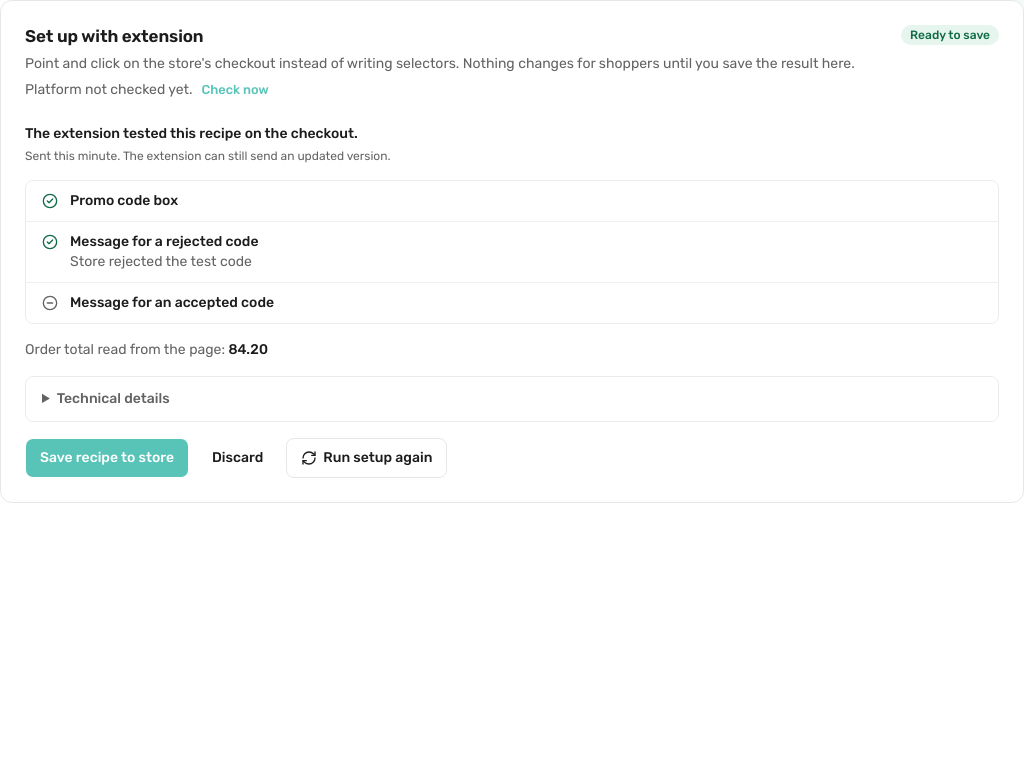
warns before a new code discards a waiting draft
Click the button "Run setup again". click: (367, 458)
box: [286,438,447,478]
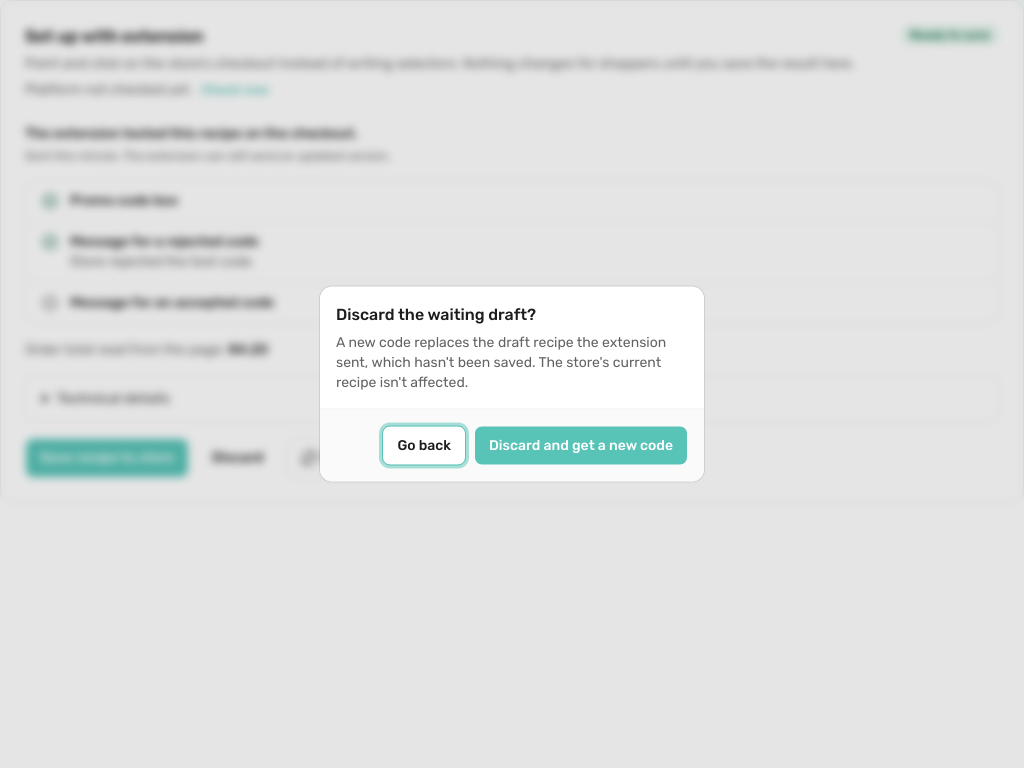
Now the heading "Discard the waiting draft?" is shown, box [336,302,536,326]
Click the button "Go back". click: (424, 446)
box: [382,426,466,466]
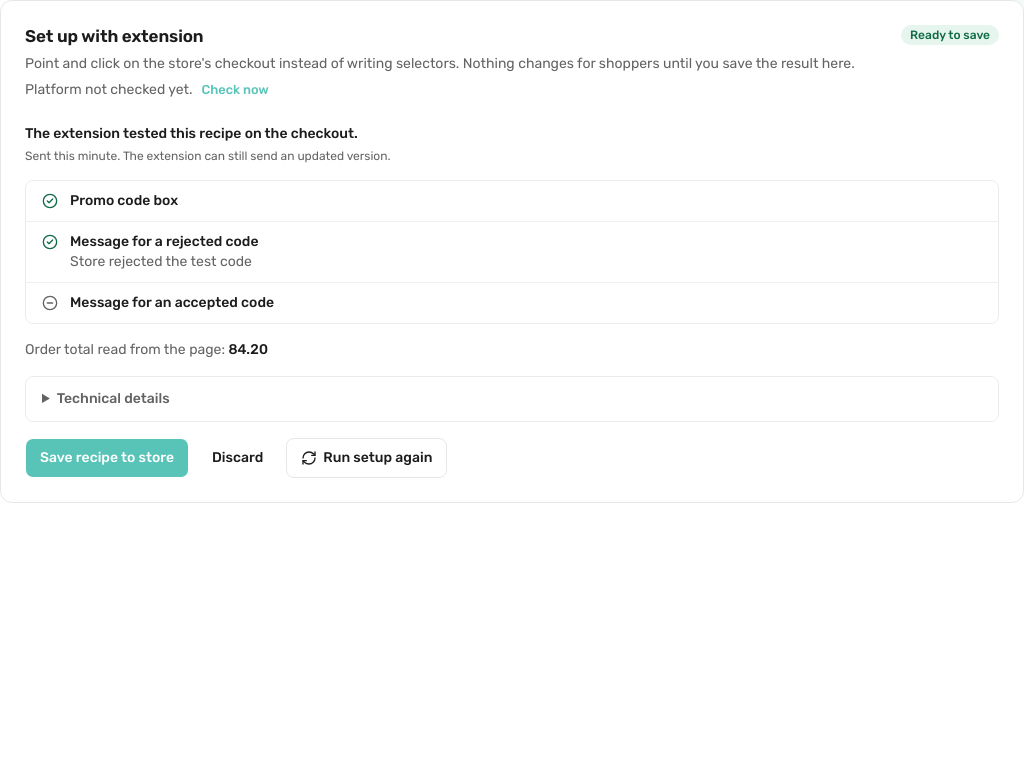
Click the button "Run setup again". click: (367, 458)
box: [286,438,447,478]
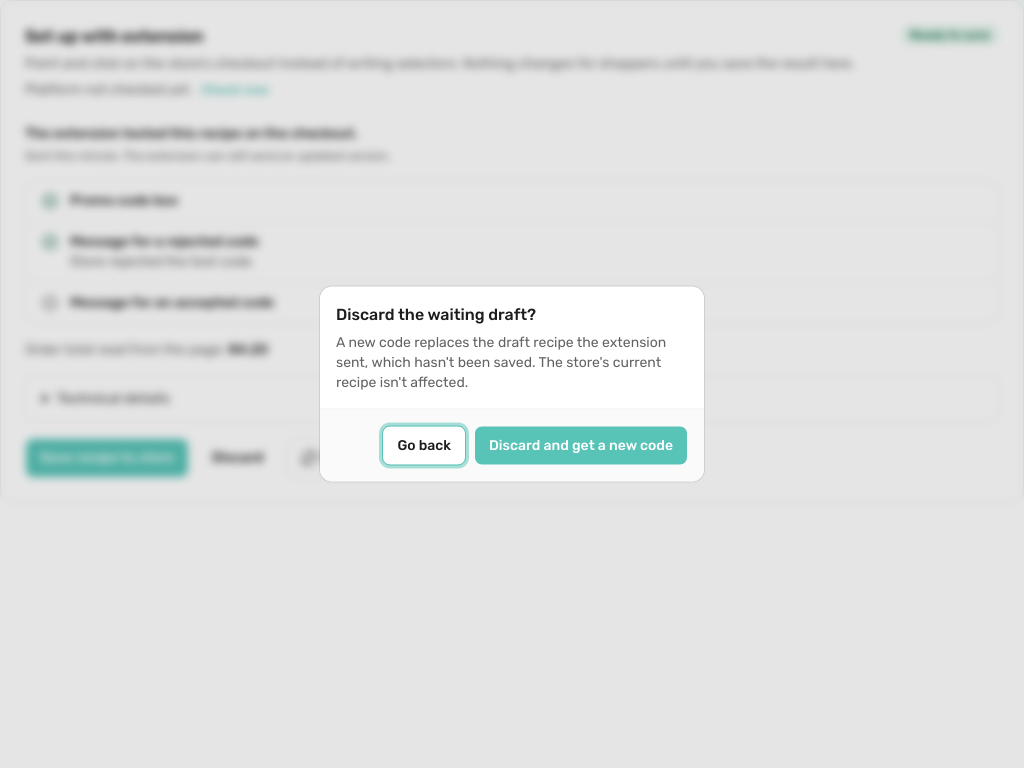
Click the button "Discard and get a new code". click: (581, 446)
box: [474,426,688,466]
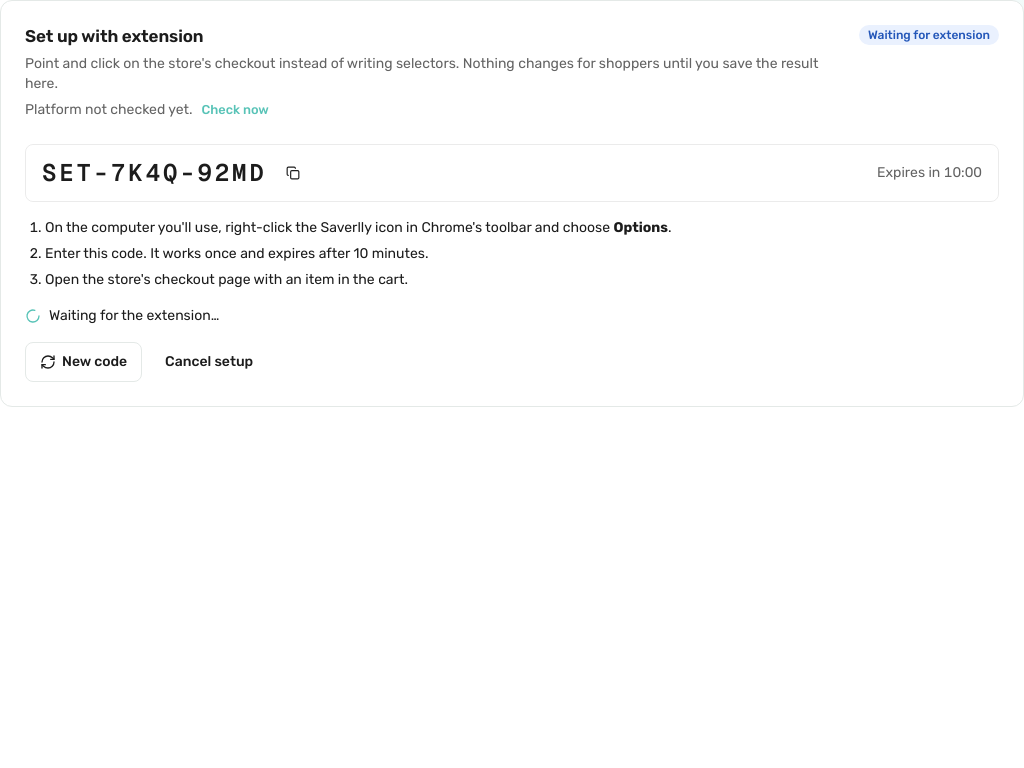
Now the text "SET-7K4Q-92MD" is shown, box [42,157,267,189]
